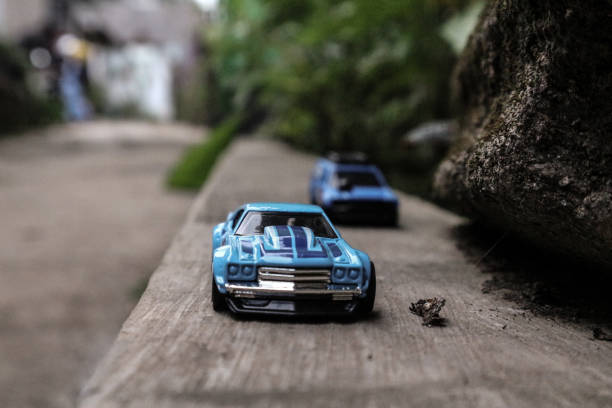Car: (212, 203, 375, 325), (308, 149, 403, 230)
